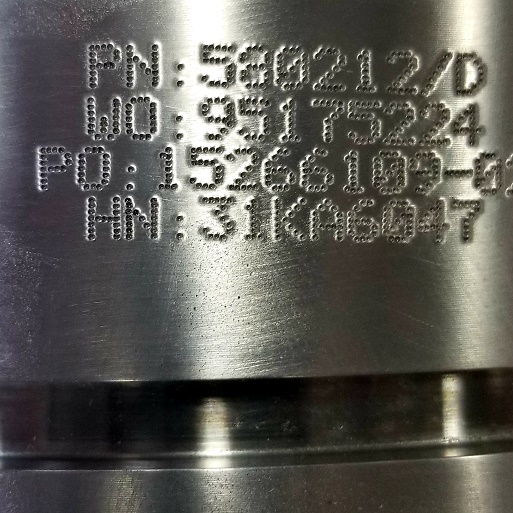character: (120, 190, 165, 247), (413, 195, 457, 253), (79, 192, 126, 245), (303, 192, 347, 248), (181, 142, 228, 194), (366, 145, 413, 197), (195, 193, 243, 243), (78, 93, 123, 146), (308, 41, 352, 95), (468, 138, 506, 200), (192, 94, 238, 145), (452, 46, 492, 103), (292, 142, 334, 196), (195, 39, 239, 90), (272, 94, 313, 148), (77, 42, 125, 88), (255, 144, 300, 193), (264, 196, 308, 246), (233, 94, 275, 146), (417, 48, 457, 102), (344, 94, 386, 145), (449, 197, 486, 254), (272, 41, 311, 95), (73, 144, 114, 195), (415, 97, 453, 152), (405, 143, 444, 196), (143, 145, 184, 195), (236, 40, 276, 91), (33, 144, 73, 195), (309, 94, 348, 145), (379, 97, 418, 148), (123, 95, 160, 148), (344, 194, 383, 244), (125, 36, 161, 90), (380, 50, 423, 95), (335, 146, 372, 197), (228, 142, 262, 197), (451, 99, 486, 152), (439, 144, 476, 194), (381, 197, 417, 244), (240, 194, 269, 245), (352, 44, 380, 95)
